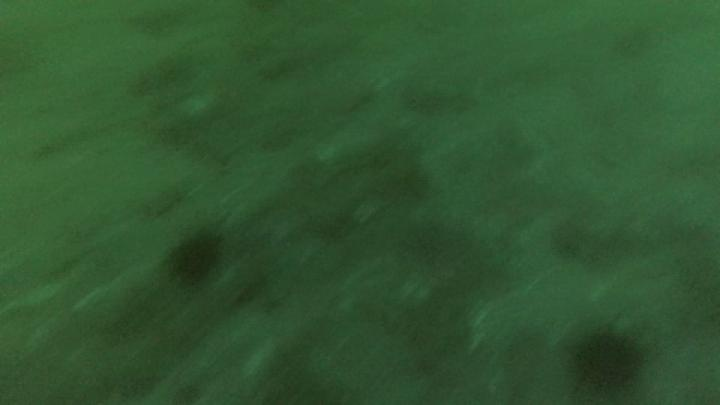echinus: (565, 321, 648, 399), (165, 227, 225, 288)
